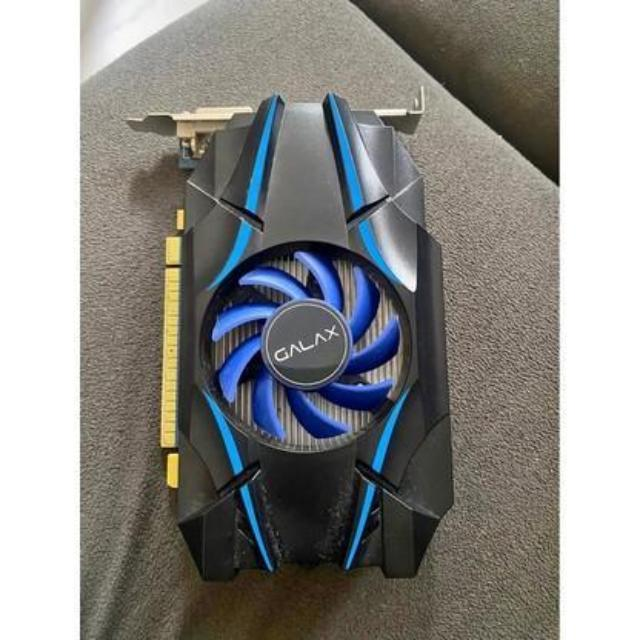GPU: (150, 92, 459, 576)
